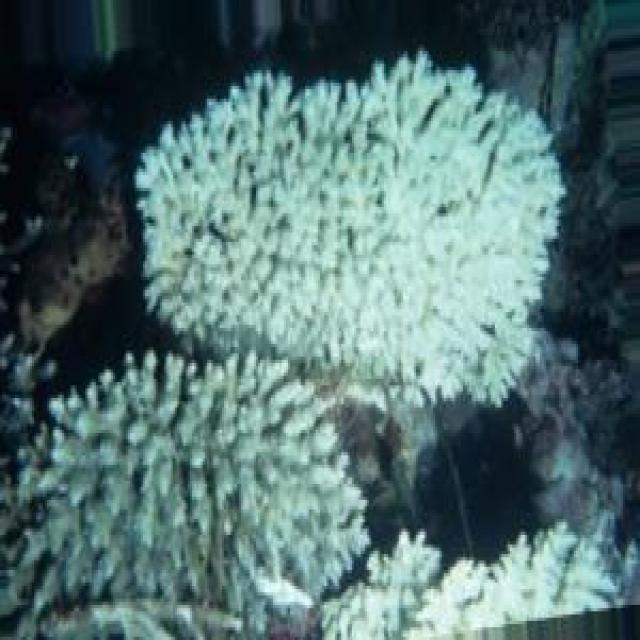bleached coral: (397, 73, 512, 178), (145, 105, 258, 207), (222, 258, 337, 353), (471, 201, 544, 331), (175, 423, 239, 564), (322, 261, 439, 338), (420, 551, 527, 634), (416, 331, 529, 401), (292, 140, 393, 210), (66, 452, 147, 535), (256, 430, 341, 506), (151, 213, 194, 299)
